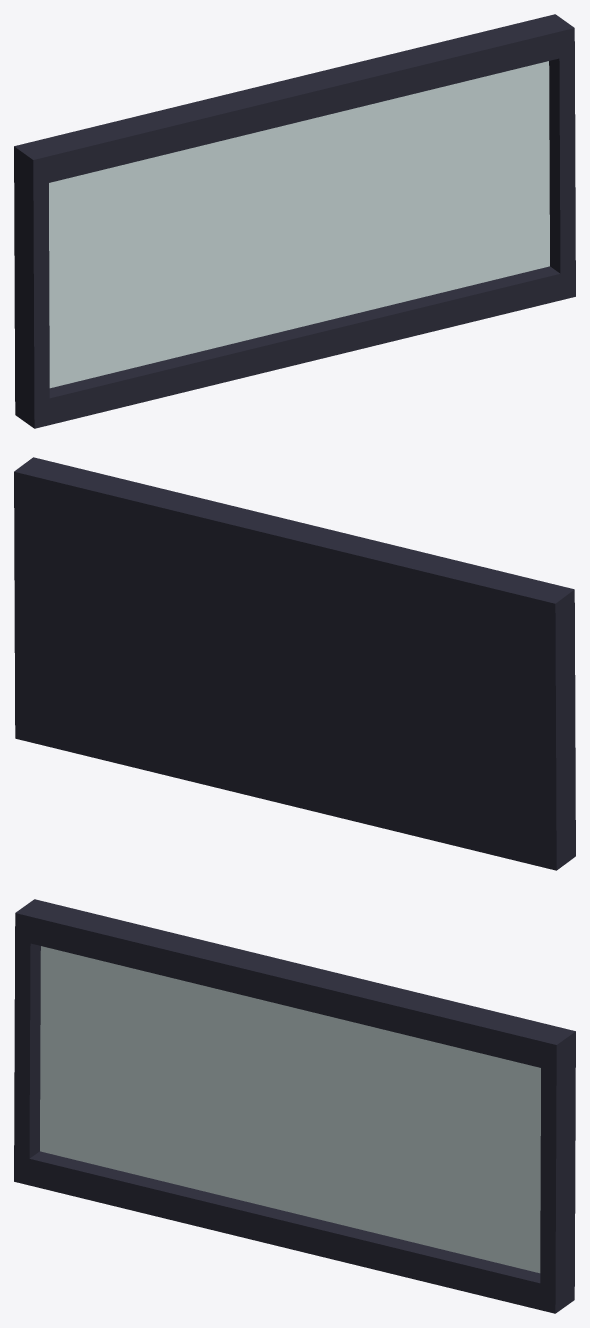
The model's file is ventana_sup02.fbx.
The picture shows the model from 3 angles, top to bottom: view 1: azimuth 30°, elevation 25°; view 2: azimuth 150°, elevation 25°; view 3: azimuth 330°, elevation 25°; orthographic projection.
Visible parts, largest first — view 1: ventana_sup02; view 2: ventana_sup02; view 3: ventana_sup02.
Part boxes in pixels (box(x1,y1,x2,y2)): ventana_sup02: box(14, 14, 575, 428); ventana_sup02: box(14, 457, 575, 870); ventana_sup02: box(14, 899, 575, 1313).
Size of the model in its own units: 268 by 127 by 17.61.
